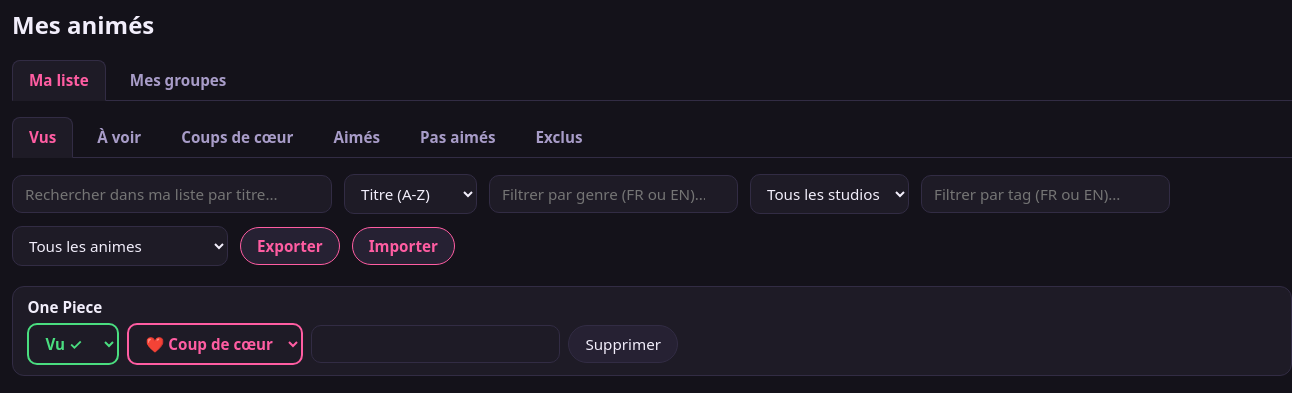
Test case: MyList › shows only excluded anime on the "Exclus" tab
Click the tab "Exclus" at (559, 137), box [520,117,598,157]
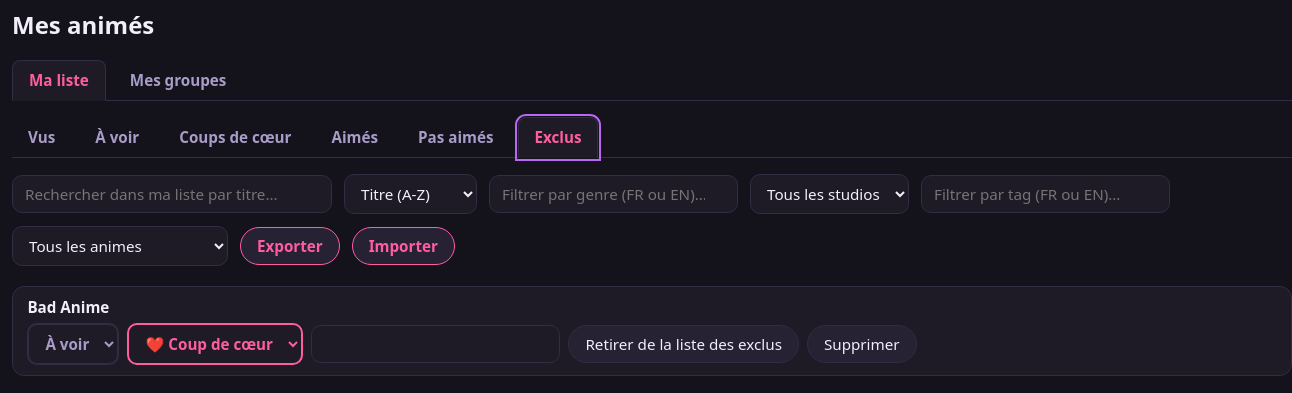
Expected: the button "Bad Anime" is shown, [27,297,1277,317]
Expected: the button "One Piece" is gone
